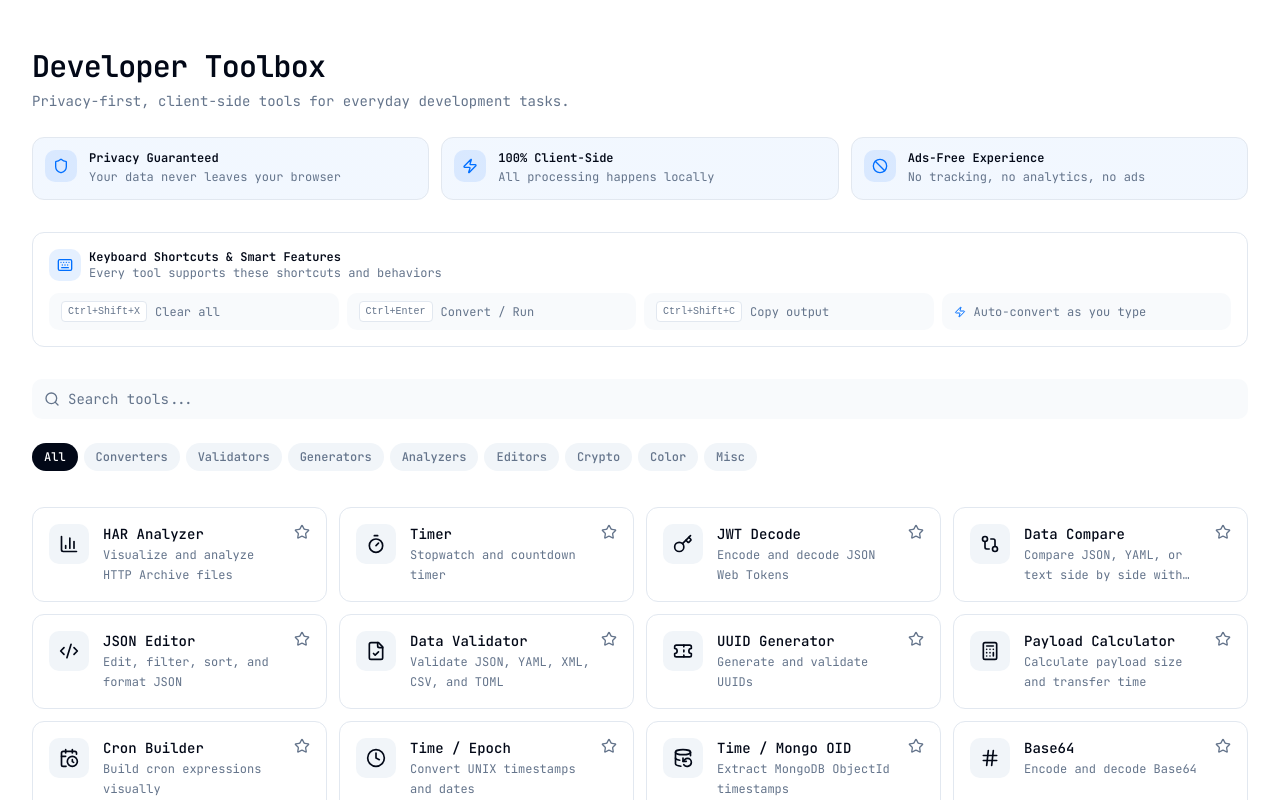
Test: HomePage › category filtering › filters by Crypto category
The image size is (1280, 800).
Click the button "Crypto": (598, 457) [565,443,632,471]
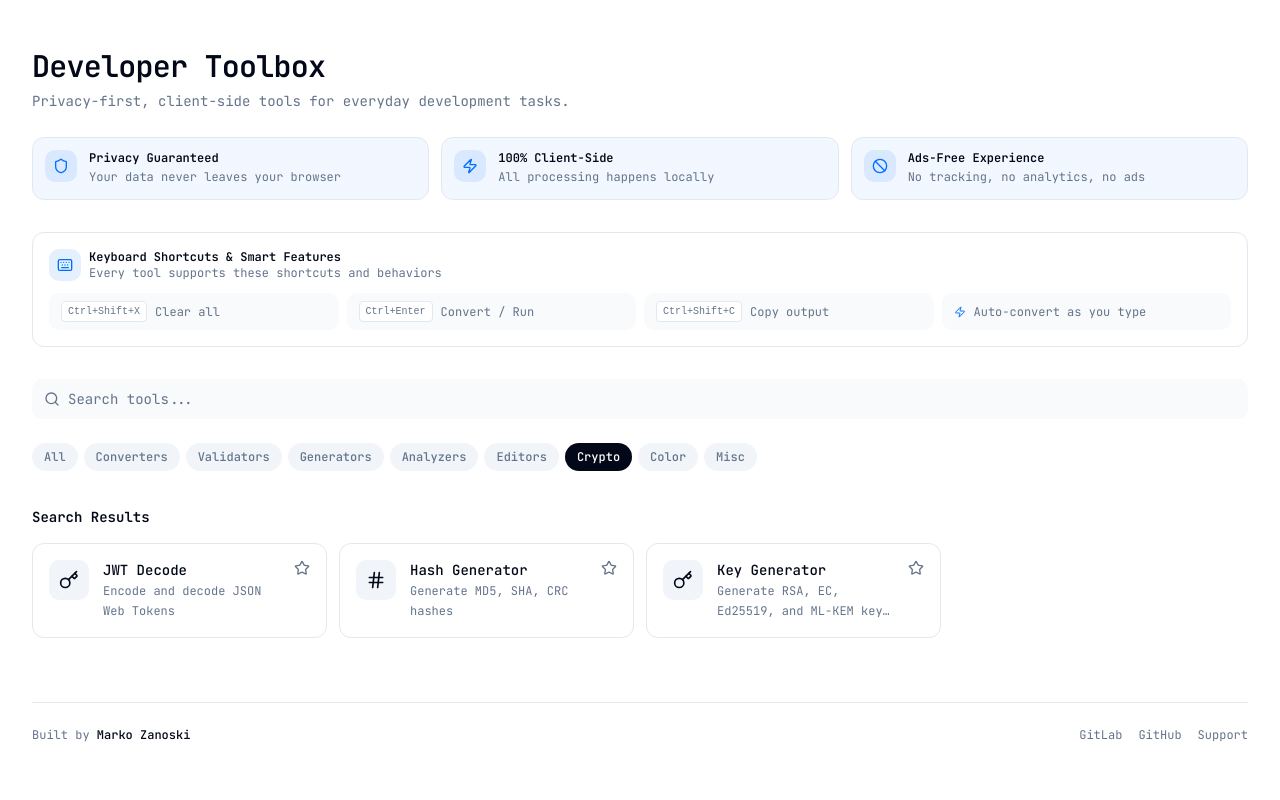
Check: the text "JWT Decode" is shown, box [103,560,187,580]
Check: the link "Timer" is gone
